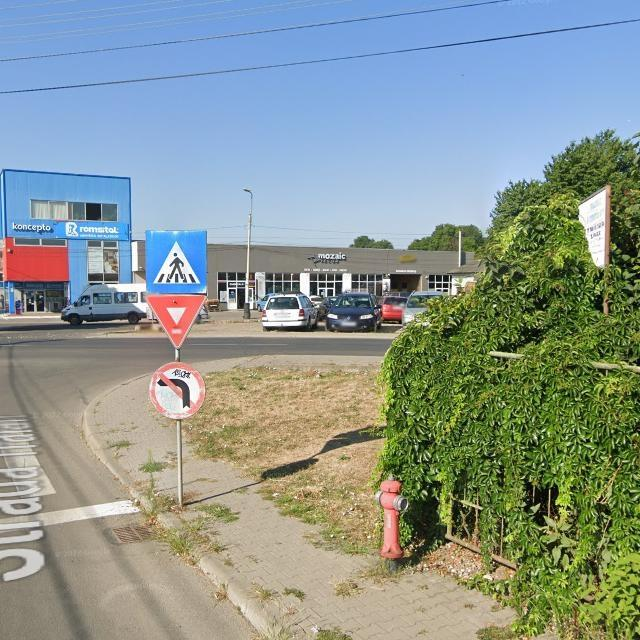info_crosswalk: (145, 230, 207, 294)
prio_give_way: (145, 294, 208, 349)
